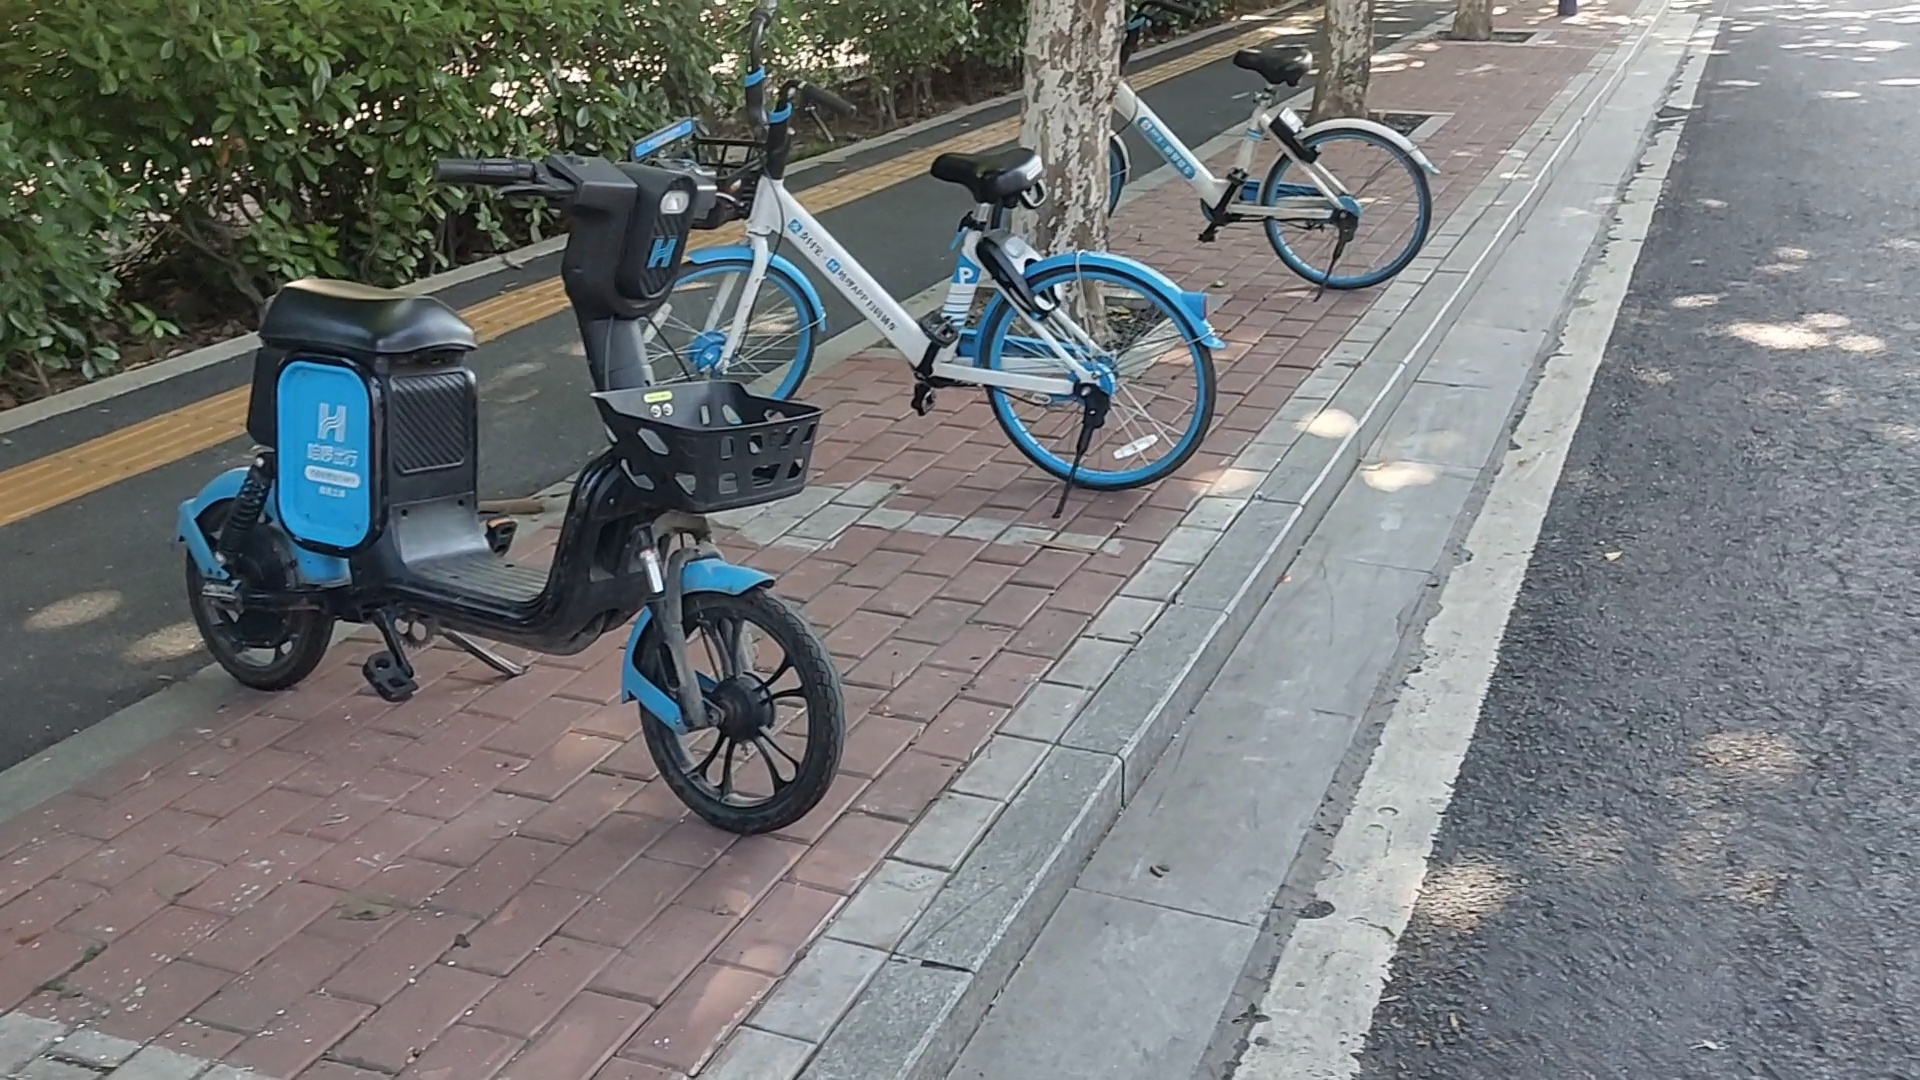non-vehicle: (177, 102, 852, 864), (640, 22, 1225, 500), (1065, 18, 1449, 291)
